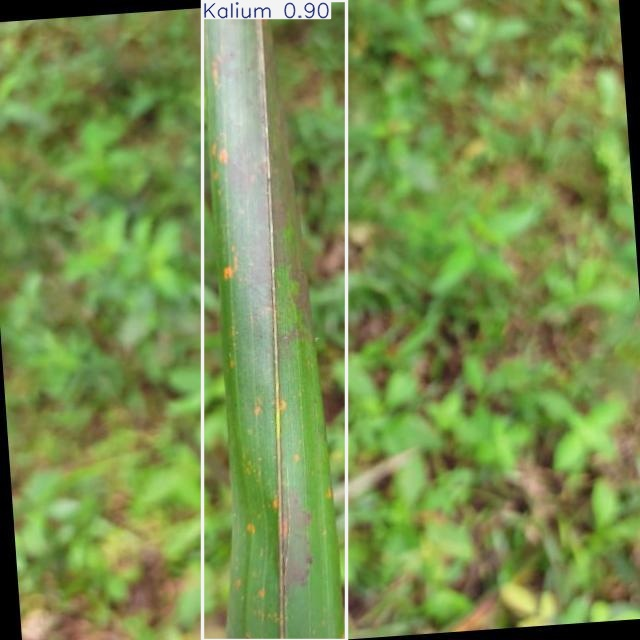Kalium: (203, 0, 347, 640)
